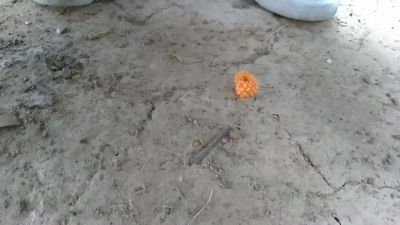eggs: (233, 69, 262, 102)
